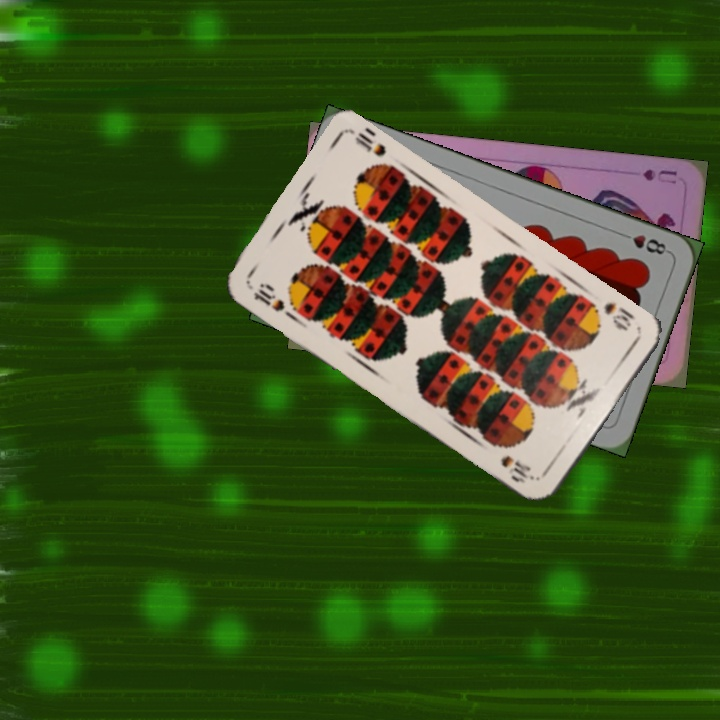H8: (615, 228, 673, 258)
S10: (599, 298, 636, 334), (249, 280, 288, 314)
SU: (638, 165, 680, 187)
